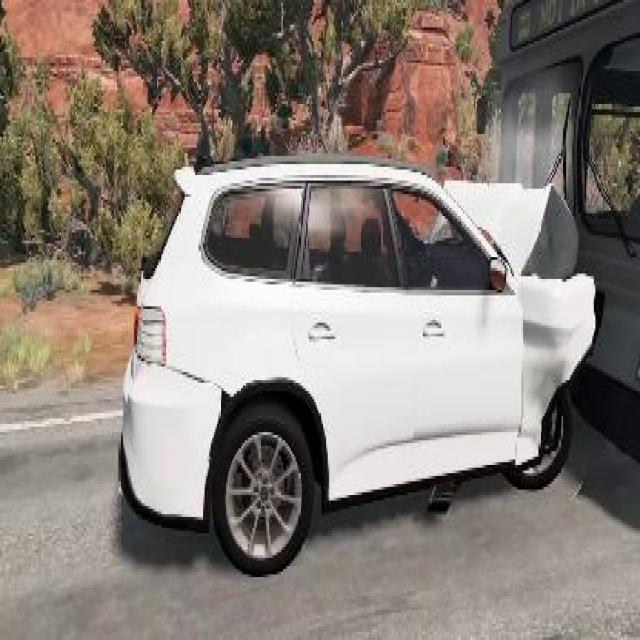accident: (103, 0, 638, 585)
